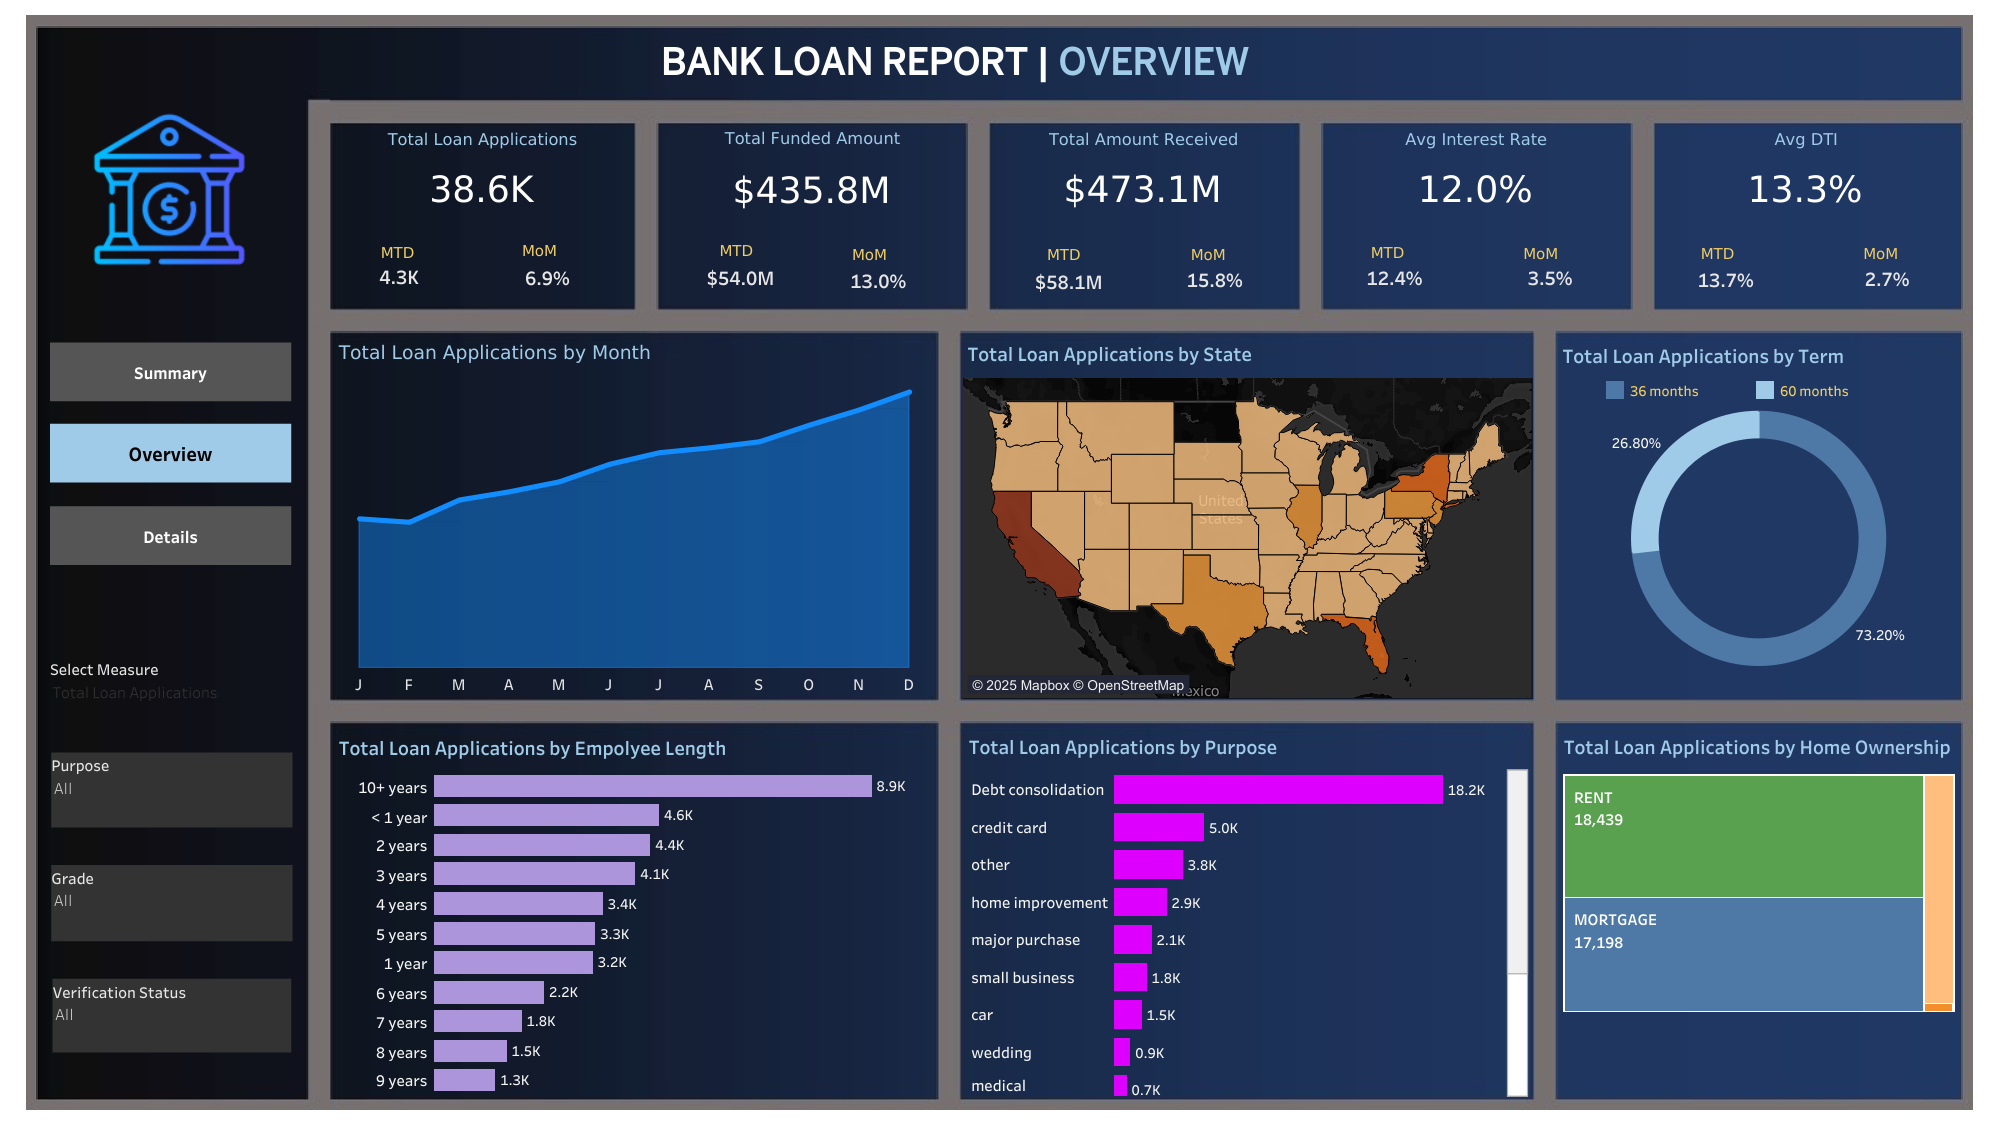

Layout of this report page (visuals, bound fields, positions):
{"tool":"tableau","page":{"name":"OVERVIEW","canvas":[1600,900],"ordinal":1},"visuals":[{"type":"image","param":"Image/Tableau Background 2.jpg","box":[8,8,1584,884]},{"type":"text","box":[526,24,660,51]},{"type":"image","param":"Image/bank_9331464.png","box":[67,79,137,145]},{"type":"worksheet","title":"Total Funded Amount","mark":"Automatic","box":[528,96,244,80]},{"type":"worksheet","title":"Total Loan Applications","mark":"Automatic","box":[266,97,240,78]},{"type":"worksheet","title":"Total Amount Received","mark":"Automatic","box":[793,97,244,79]},{"type":"worksheet","title":"Avg Interest Rate","mark":"Automatic","box":[1059,97,244,79]},{"type":"worksheet","title":"Avg DTI","mark":"Automatic","box":[1324,97,242,79]},{"type":"text","box":[415,189,40,22]},{"type":"text","box":[573,189,39,23]},{"type":"text","box":[302,190,40,22]},{"type":"text","box":[1094,190,39,23]},{"type":"text","box":[1216,191,40,22]},{"type":"text","box":[1358,191,39,23]},{"type":"text","box":[1488,191,40,22]},{"type":"text","box":[679,192,40,22]},{"type":"text","box":[835,192,39,23]},{"type":"text","box":[950,192,40,22]},{"type":"worksheet","title":"MTD Total Funded Amount","mark":"Automatic","box":[550,208,86,28]},{"type":"worksheet","title":"MTD Avg Interest Rate","mark":"Automatic","box":[1079,208,73,27]},{"type":"worksheet","title":"MoM Avg Interest Rate","mark":"Automatic","box":[1211,208,58,28]},{"type":"worksheet","title":"MoM Loan Applications","mark":"Automatic","box":[412,209,52,26]},{"type":"worksheet","title":"MTD Total Loan Applications","mark":"Automatic","box":[294,210,52,22]},{"type":"worksheet","title":"MTD Avg DTI","mark":"Automatic","box":[1347,210,67,26]},{"type":"worksheet","title":"MoM Avg DTI","mark":"Automatic","box":[1481,210,59,24]},{"type":"worksheet","title":"MoM Total Funded Amount","mark":"Automatic","box":[667,212,72,23]},{"type":"worksheet","title":"MTD Total Amount Received","mark":"Automatic","box":[816,212,79,25]},{"type":"worksheet","title":"MoM Total Amount Received","mark":"Automatic","box":[938,213,68,22]},{"type":"worksheet","title":"State","mark":"Automatic","box":[770,266,455,292]},{"type":"worksheet","title":"Month","mark":"Area","rows":["Calculation_27584582605864992","Calculation_27584582605864992"],"cols":["issue_date"],"box":[267,267,480,289]},{"type":"worksheet","title":"Term","mark":"Pie","rows":["Calculation_27584582911741988","Calculation_27584582911782950"],"box":[1246,267,321,291]},{"type":"dashboard-object","box":[40,274,193,47]},{"type":"legend","title":"Term","param":"[federated.0aim52818chl1713h0jb8159vocc].[none:term:nk]","box":[1282,302,244,22]},{"type":"dashboard-object","box":[40,339,193,47]},{"type":"dashboard-object","box":[40,405,193,47]},{"type":"parameter","param":"[Parameters].[Parameter 1]","box":[40,525,195,57]},{"type":"worksheet","title":"Purpose","mark":"Automatic","rows":["purpose"],"cols":["Calculation_27584582605864992"],"box":[771,580,452,297]},{"type":"worksheet","title":"Home Ownership","mark":"Automatic","box":[1247,580,320,296]},{"type":"worksheet","title":"Employee Length","mark":"Automatic","rows":["emp_length"],"cols":["Calculation_27584582605864992"],"box":[267,581,479,295]},{"type":"filter","title":"Avg DTI","param":"[federated.0aim52818chl1713h0jb8159vocc].[none:purpose:nk]","box":[41,602,193,60]},{"type":"filter","title":"Avg DTI","param":"[federated.0aim52818chl1713h0jb8159vocc].[none:grade:nk]","box":[41,692,193,61]},{"type":"filter","title":"Avg DTI","param":"[federated.0aim52818chl1713h0jb8159vocc].[none:verification_status:nk]","box":[42,783,191,59]}]}

Visuals, with their boxes in screenshot pixels (x1, y1, x2, y2), scaled from the page's 1600x900 canvas onto the 1999x1124 screenshot:
image: detection(10, 10, 1989, 1114)
text: detection(657, 30, 1482, 94)
image: detection(84, 99, 255, 280)
"Total Funded Amount" worksheet: detection(660, 120, 965, 220)
"Total Loan Applications" worksheet: detection(332, 121, 632, 219)
"Total Amount Received" worksheet: detection(991, 121, 1296, 220)
"Avg Interest Rate" worksheet: detection(1323, 121, 1628, 220)
"Avg DTI" worksheet: detection(1654, 121, 1957, 220)
text: detection(518, 236, 568, 264)
text: detection(716, 236, 765, 265)
text: detection(377, 237, 427, 265)
text: detection(1367, 237, 1416, 266)
text: detection(1519, 239, 1569, 266)
text: detection(1697, 239, 1745, 267)
text: detection(1859, 239, 1909, 266)
text: detection(848, 240, 898, 267)
text: detection(1043, 240, 1092, 269)
text: detection(1187, 240, 1237, 267)
"MTD Total Funded Amount" worksheet: detection(687, 260, 795, 295)
"MTD Avg Interest Rate" worksheet: detection(1348, 260, 1439, 293)
"MoM Avg Interest Rate" worksheet: detection(1513, 260, 1585, 295)
"MoM Loan Applications" worksheet: detection(515, 261, 580, 293)
"MTD Total Loan Applications" worksheet: detection(367, 262, 432, 290)
"MTD Avg DTI" worksheet: detection(1683, 262, 1767, 295)
"MoM Avg DTI" worksheet: detection(1850, 262, 1924, 292)
"MoM Total Funded Amount" worksheet: detection(833, 265, 923, 293)
"MTD Total Amount Received" worksheet: detection(1019, 265, 1118, 296)
"MoM Total Amount Received" worksheet: detection(1172, 266, 1257, 293)
"State" worksheet: detection(962, 332, 1530, 697)
"Month" worksheet (Area marks): detection(334, 333, 933, 694)
"Term" worksheet (Pie marks): detection(1557, 333, 1958, 697)
dashboard-object: detection(50, 342, 291, 401)
"Term" legend: detection(1602, 377, 1907, 405)
dashboard-object: detection(50, 423, 291, 482)
dashboard-object: detection(50, 506, 291, 564)
parameter: detection(50, 656, 294, 727)
"Purpose" worksheet: detection(963, 724, 1528, 1095)
"Home Ownership" worksheet: detection(1558, 724, 1958, 1094)
"Employee Length" worksheet: detection(334, 726, 932, 1094)
"Avg DTI" filter: detection(51, 752, 292, 827)
"Avg DTI" filter: detection(51, 864, 292, 940)
"Avg DTI" filter: detection(52, 978, 291, 1052)
